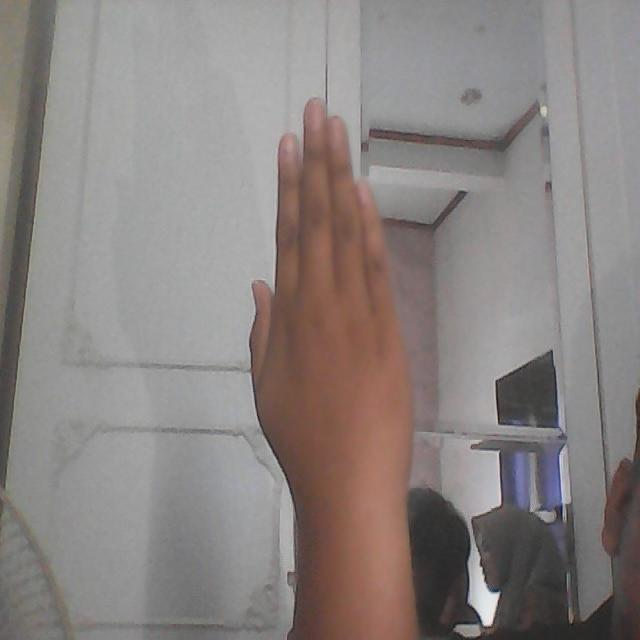hand: (240, 94, 414, 526)
